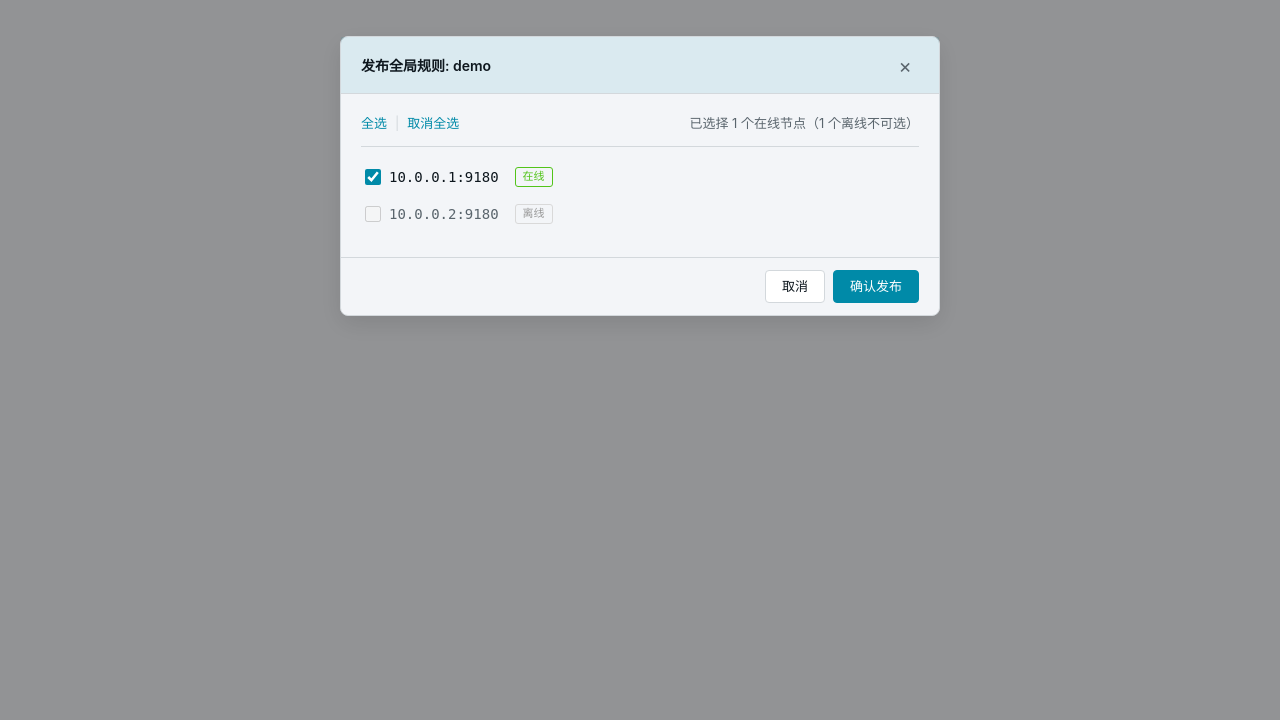
it: PublishConfirmModal.vue - 默认选中全部在线节点（route-management-ux-batch1 7.1） › 「全选/取消全选」保留：取消后归零禁用；再全选仅勾在线节点
// 取消全选：0 选中 → 确认键禁用 + 守卫文案
Click the link with class "action-link" showing "取消全选": (433, 124) [407,117,459,130]
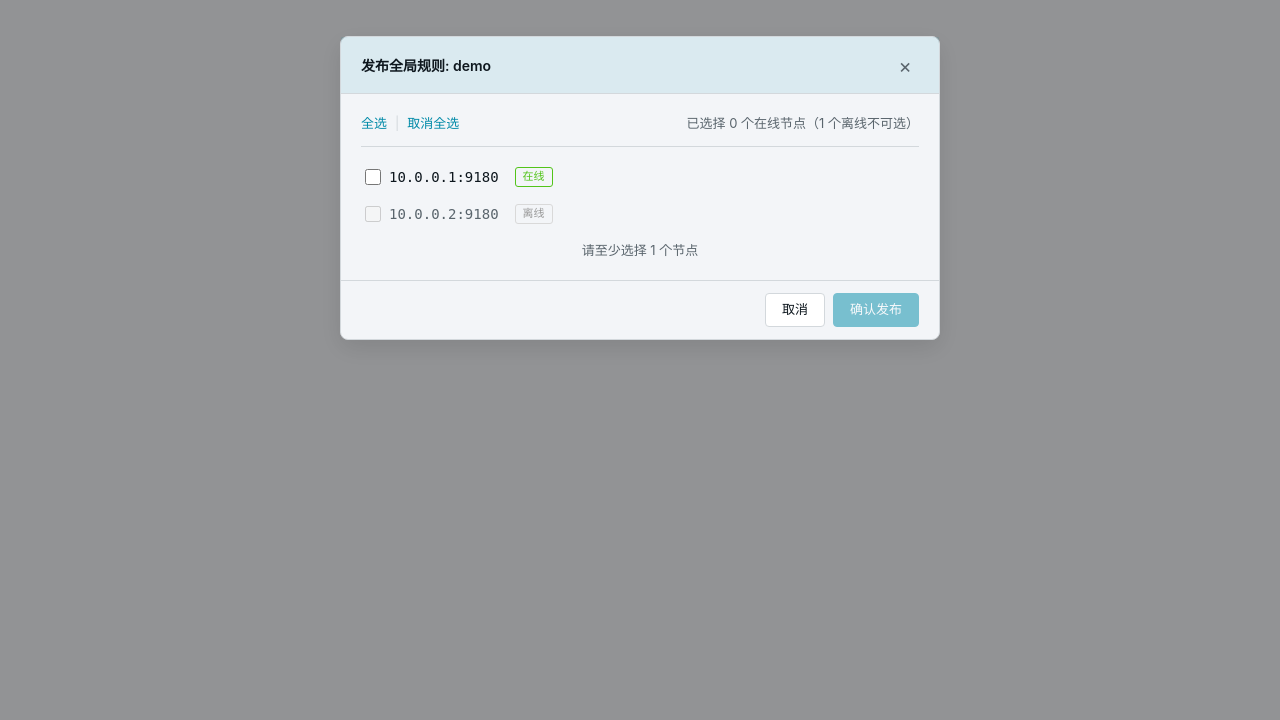
expect the button "确认发布" is disabled: met, box [833,293,919,326]
// 再全选：仅在线节点（1 个）
Click the link with class "action-link" showing "全选": (374, 124) [361,117,387,130]
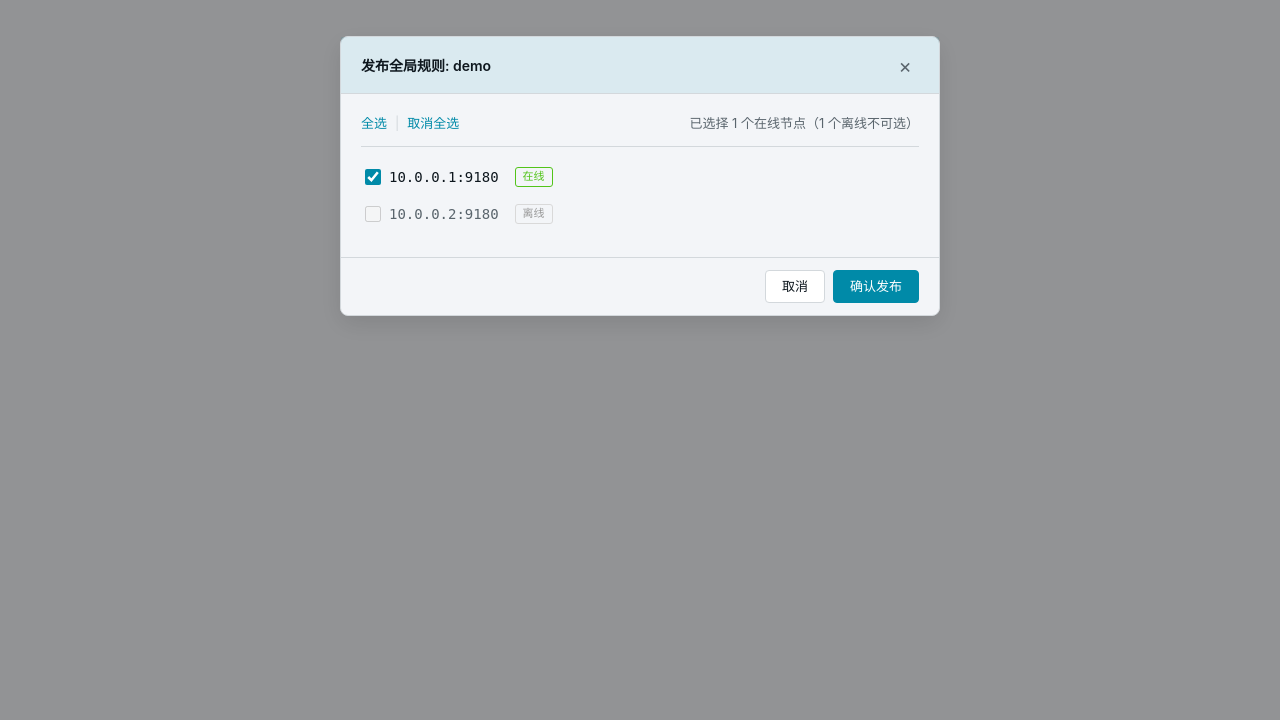
expect the button "确认发布" is enabled: met, box [833,270,919,303]
